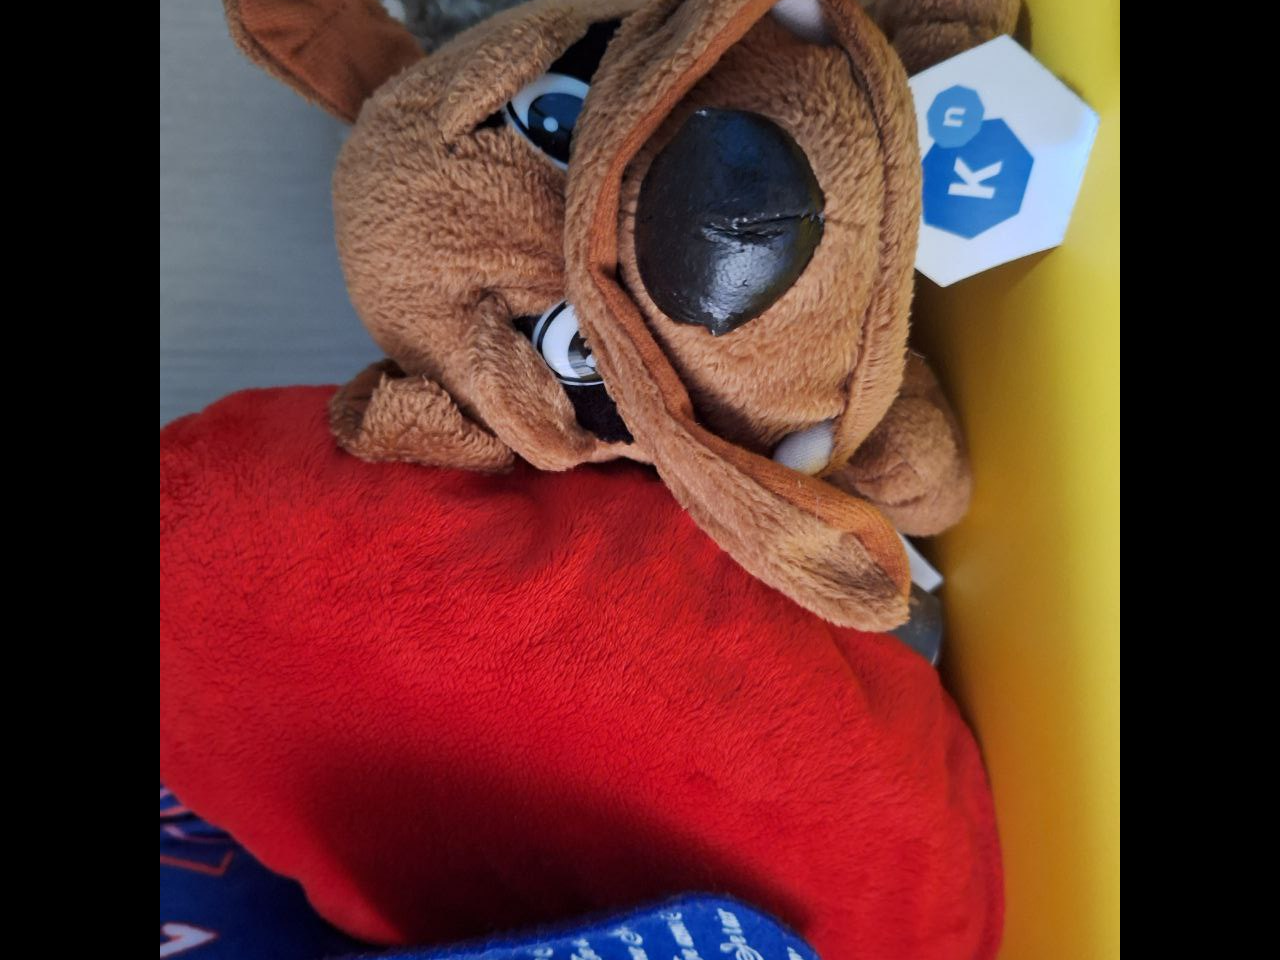knative: (918, 79, 1037, 239)
